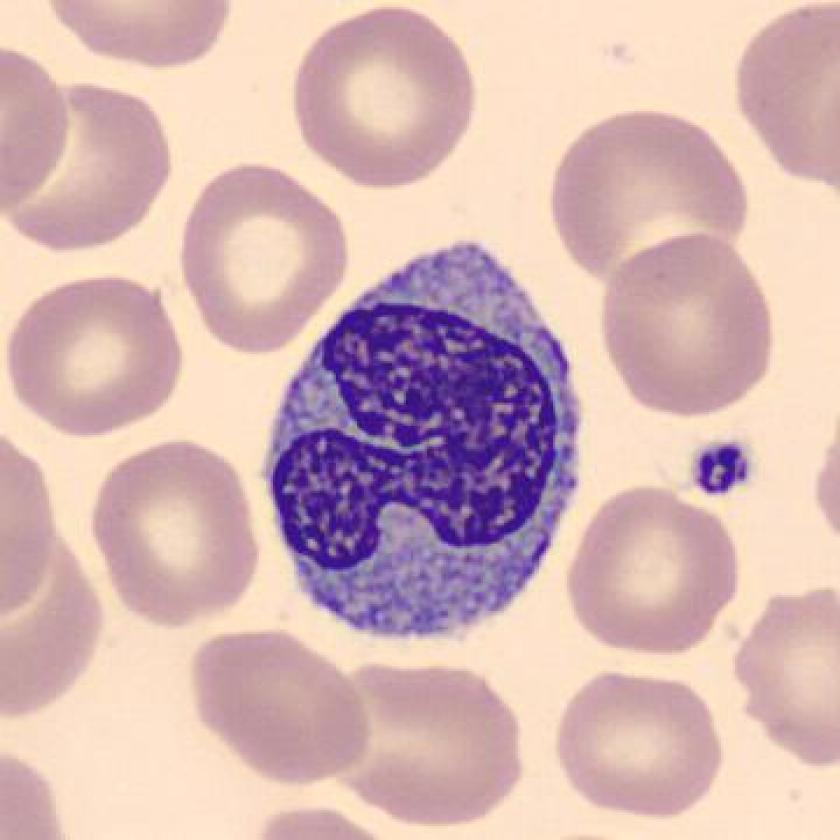monocyte: (241, 223, 603, 665)
